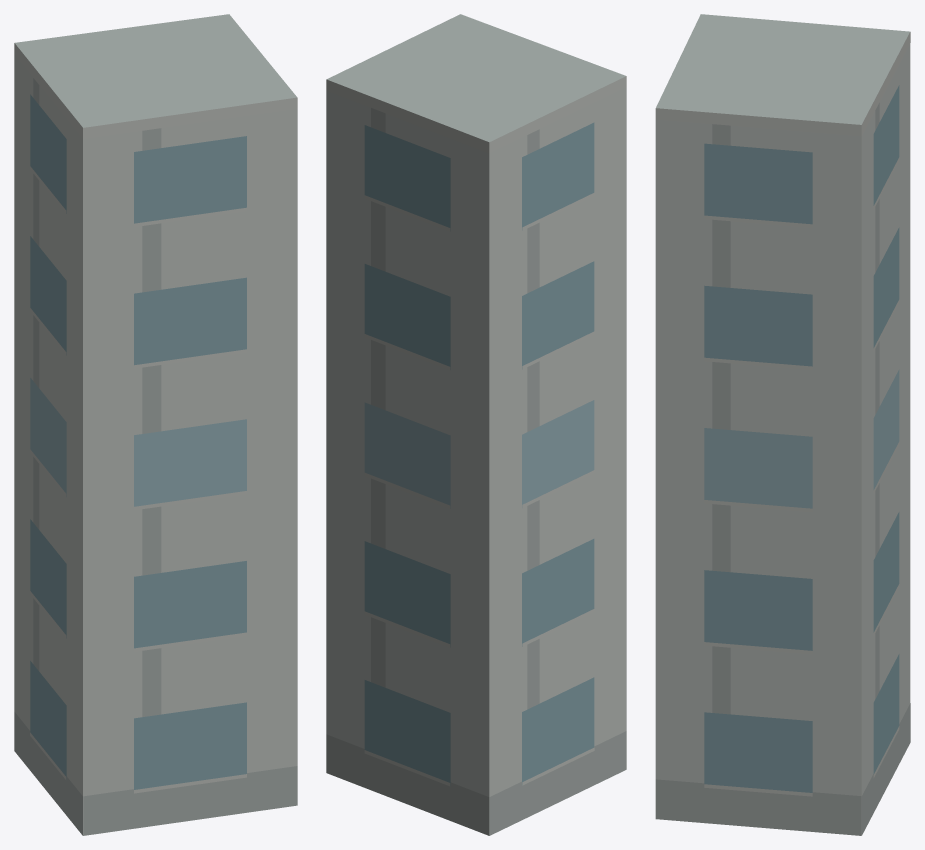
File: survey-upis-32697103.glb
3 views of the same model, side by side, from view 1: azimuth 30°, elevation 25°; view 2: azimuth 150°, elevation 25°; view 3: azimuth 270°, elevation 25° (orthographic). The views are drawn at different scales.
Visible parts, largest first — view 1: survey-upis-32697103.tmp; view 2: survey-upis-32697103.tmp; view 3: survey-upis-32697103.tmp.
Boxes of the visible parts, bbox=[...] form: survey-upis-32697103.tmp: bbox=[14, 14, 297, 835]; survey-upis-32697103.tmp: bbox=[326, 14, 626, 835]; survey-upis-32697103.tmp: bbox=[655, 14, 910, 835].
Bounding box in the file's own units: 5.11 × 15.25 × 4.96.
